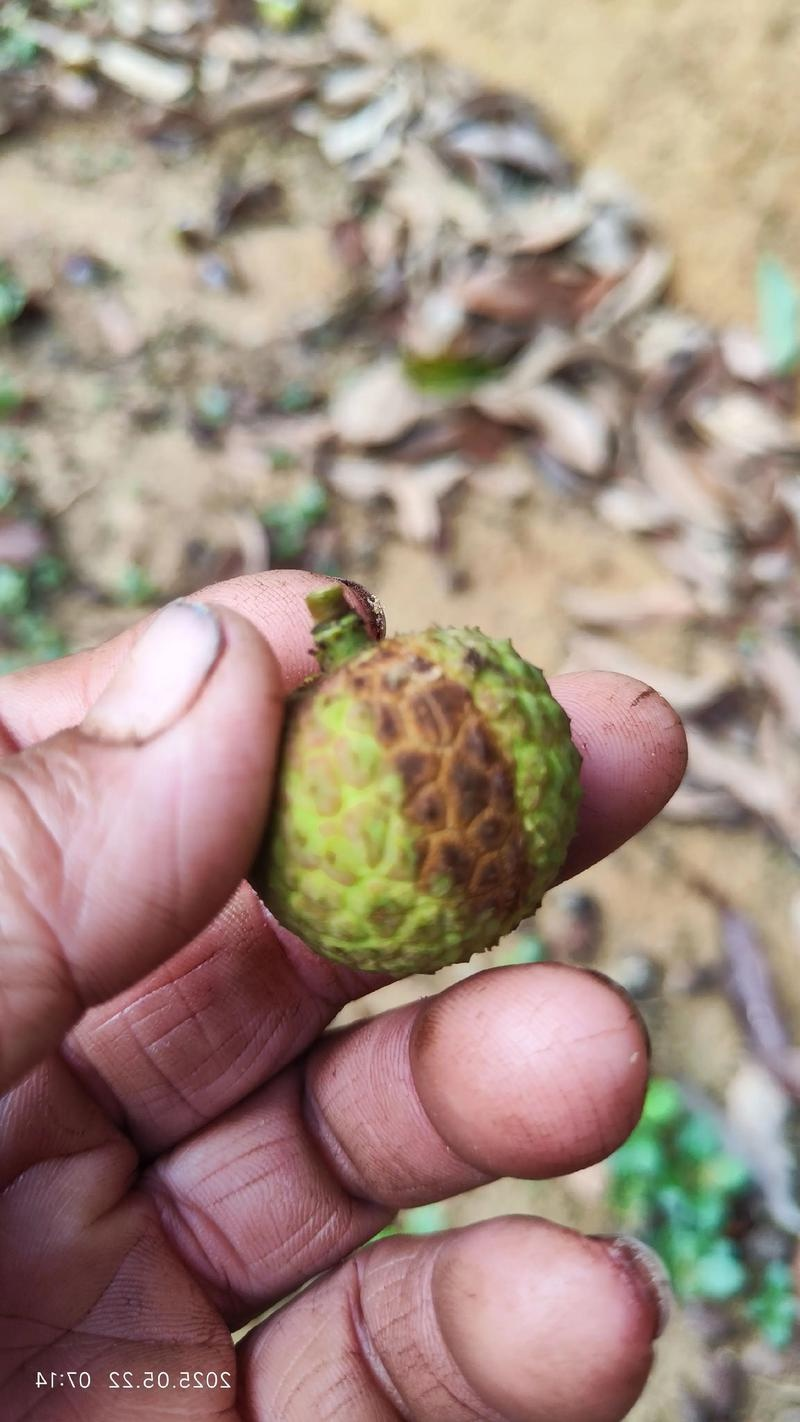Frost_Blight: (383, 600, 516, 961)
